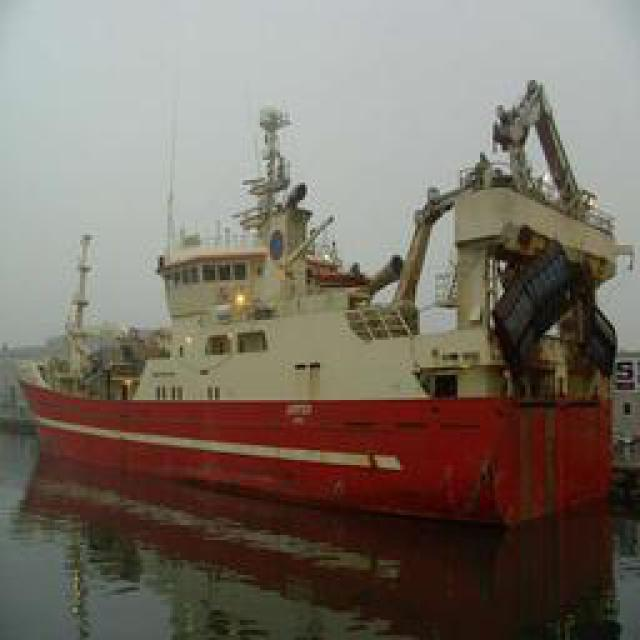Ship: (21, 73, 640, 574)
